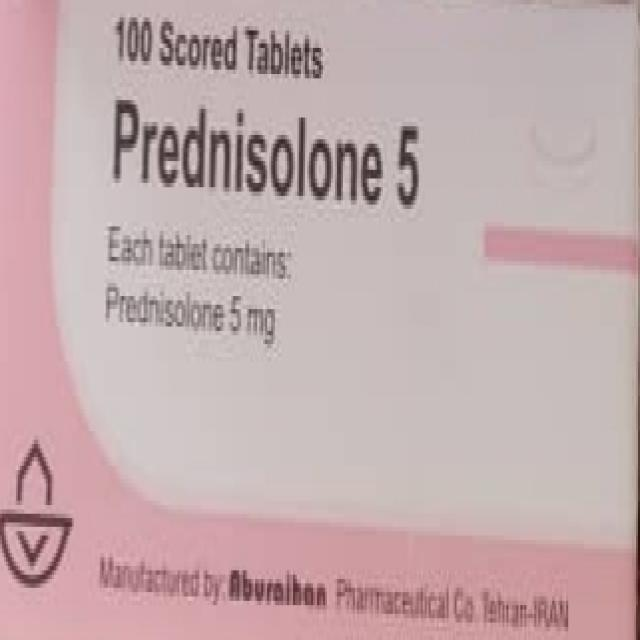drug-name: (109, 87, 429, 214)
